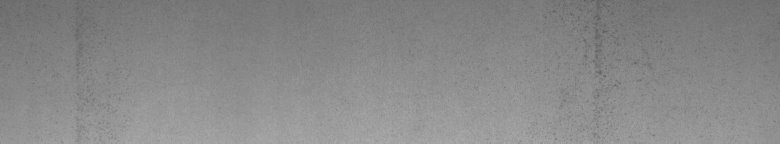ib: (584, 7, 638, 88)
